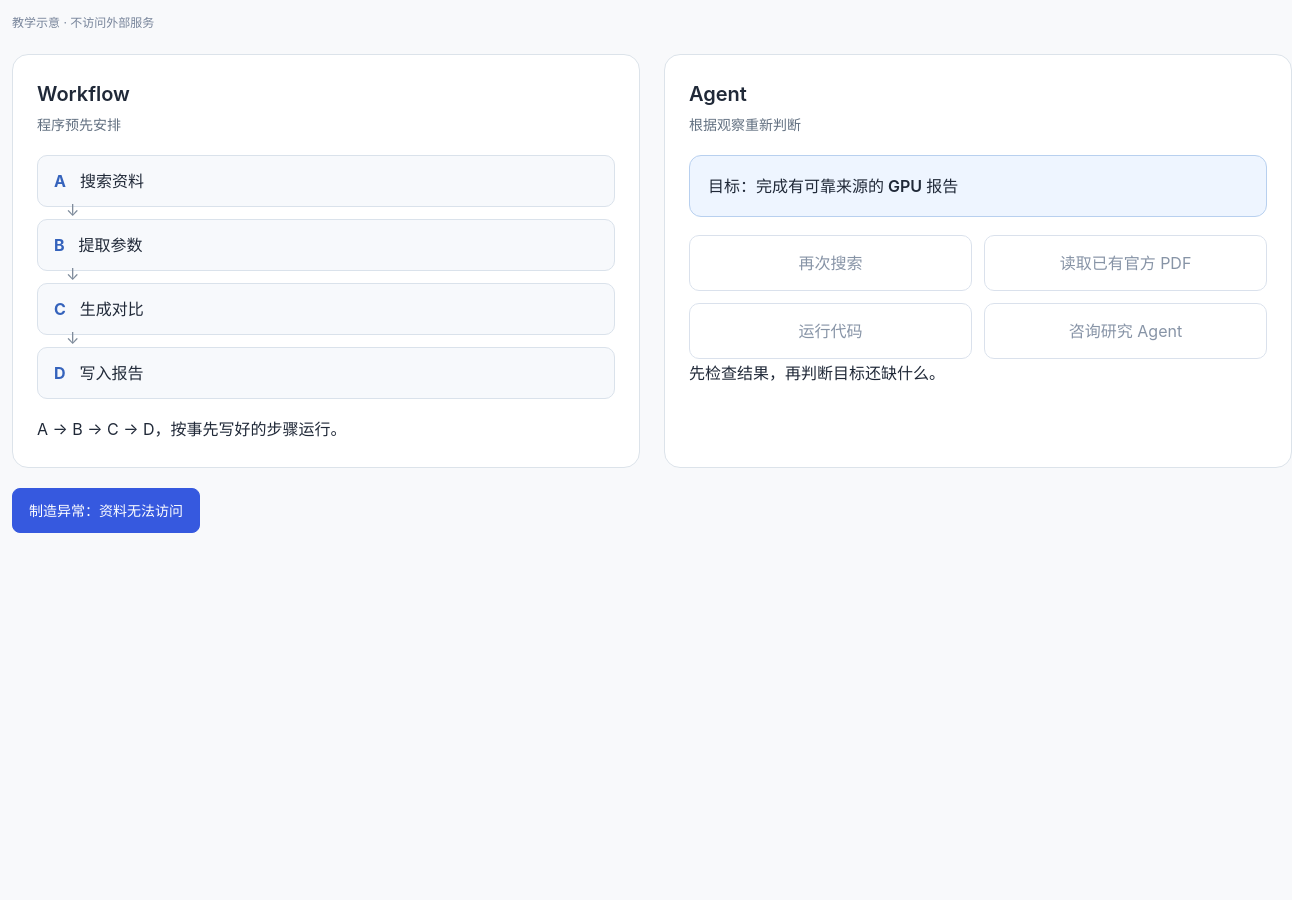
Test case: Workflow comparison › requires observing an exception and choosing an action that can supply evidence
Expected: the button "读取已有官方 PDF" is disabled, [984, 235, 1267, 291]
Step 1. Click the button "制造异常：资料无法访问" → (106, 511), box [12, 488, 200, 533]
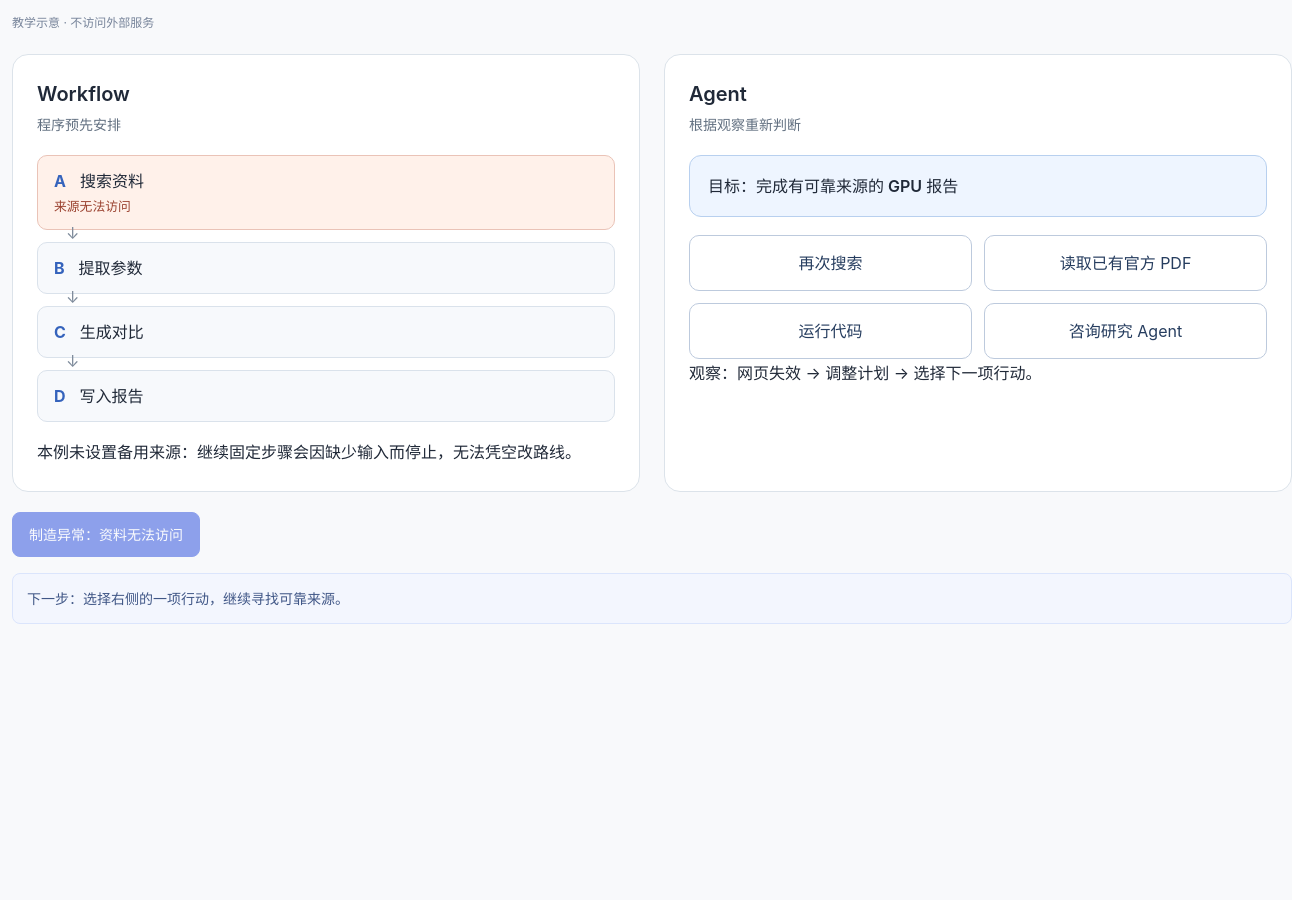
Step 2. Click the button "运行代码" → (830, 331), box [689, 303, 972, 359]
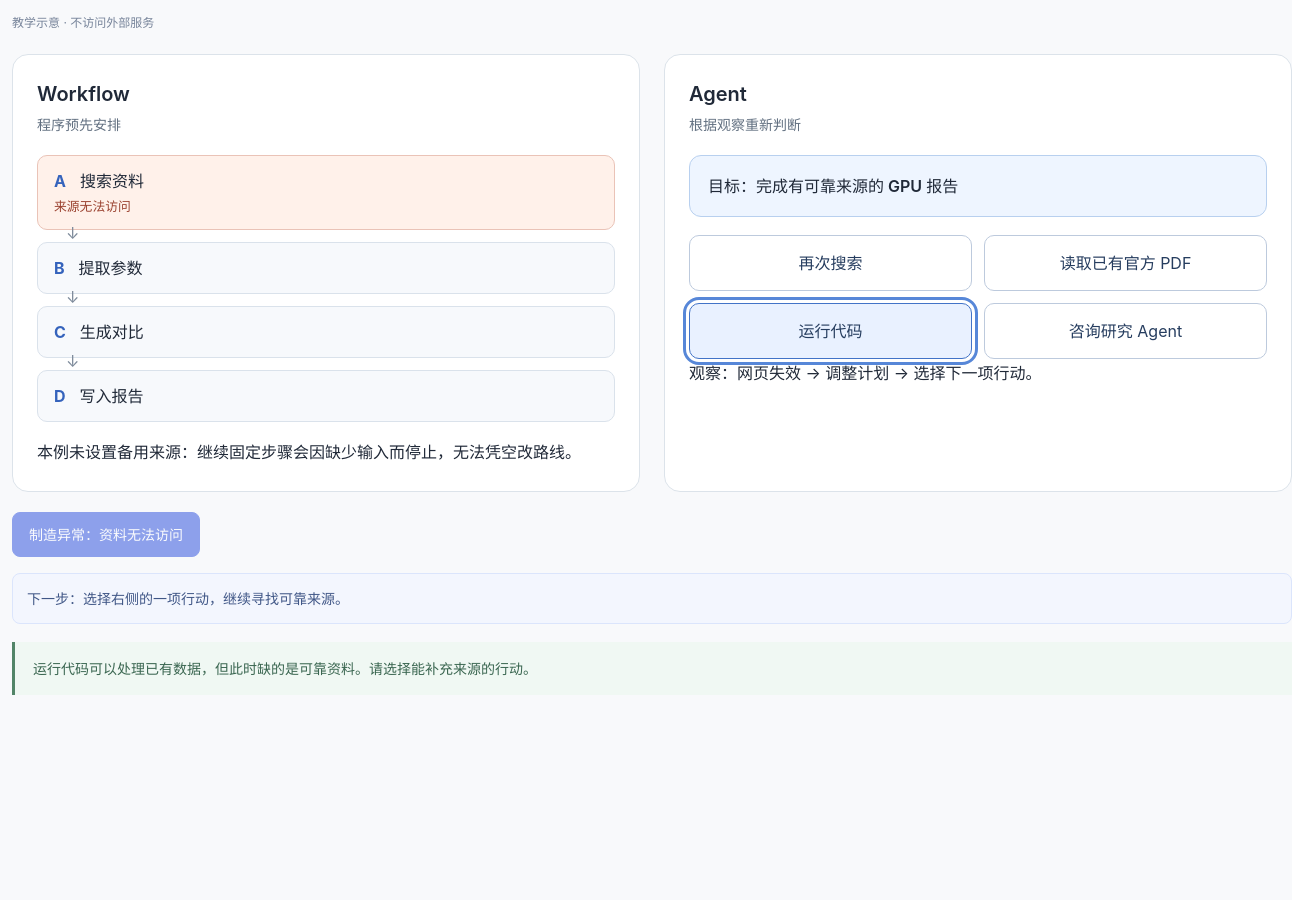
Expected: the message shows "缺的是可靠资料", [33, 660, 537, 677]
Step 3. Click the button "读取已有官方 PDF" → (1126, 263), box [984, 235, 1267, 291]
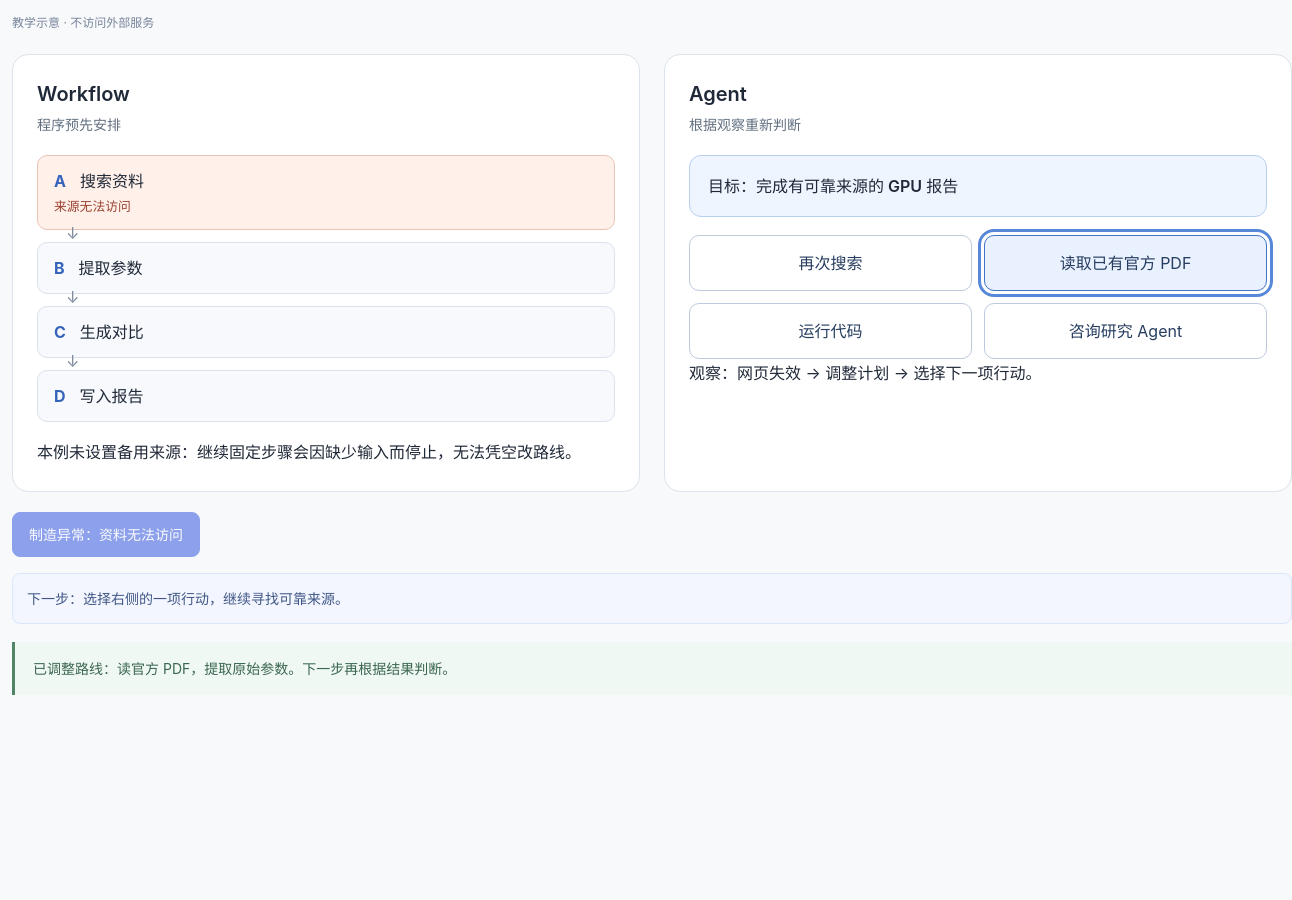
Expected: the message shows "读官方 PDF", [33, 660, 456, 677]
